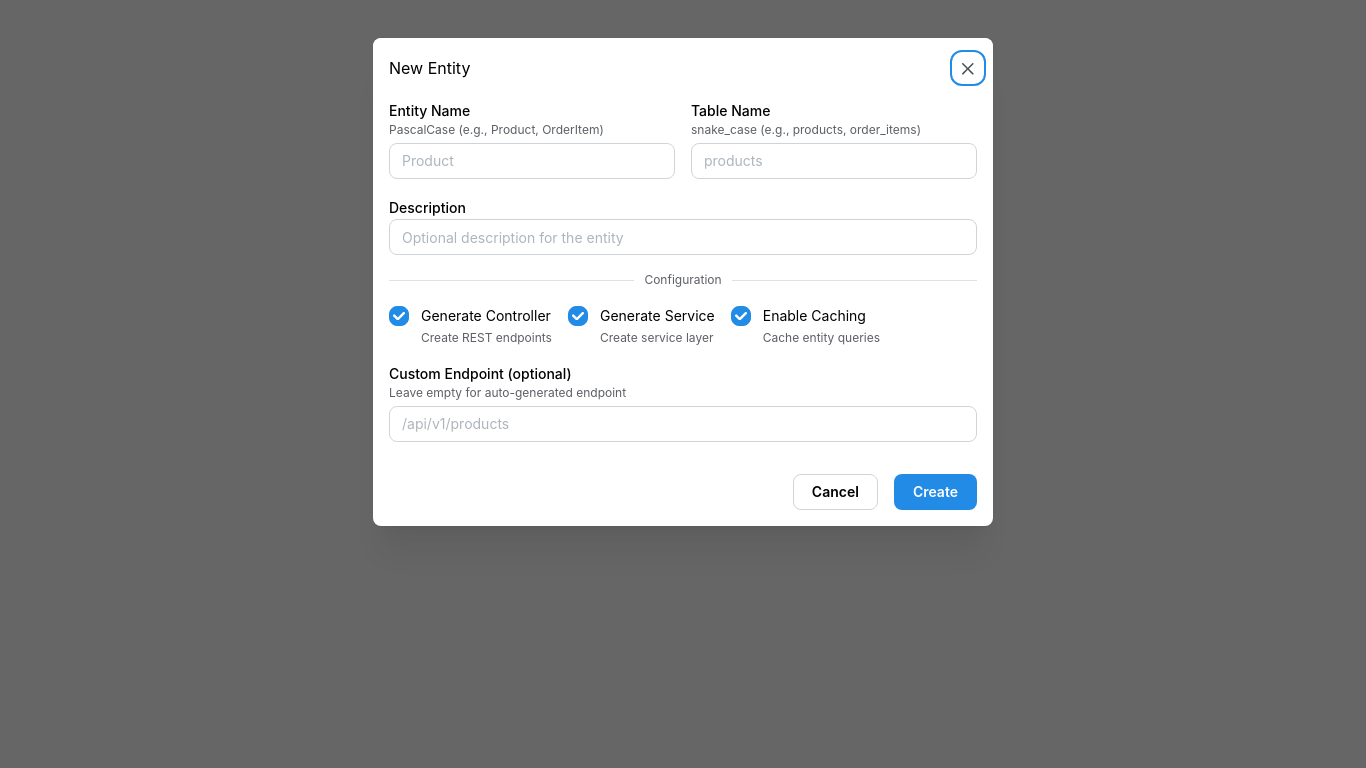
Test: EntityForm › Auto-generate Table Name › should auto-generate table name with snake_case for multi-word names
The image size is (1366, 768).
Type "OrderItem" into the field labelled "Entity Name" at (532, 161), box [389,143,675,179]
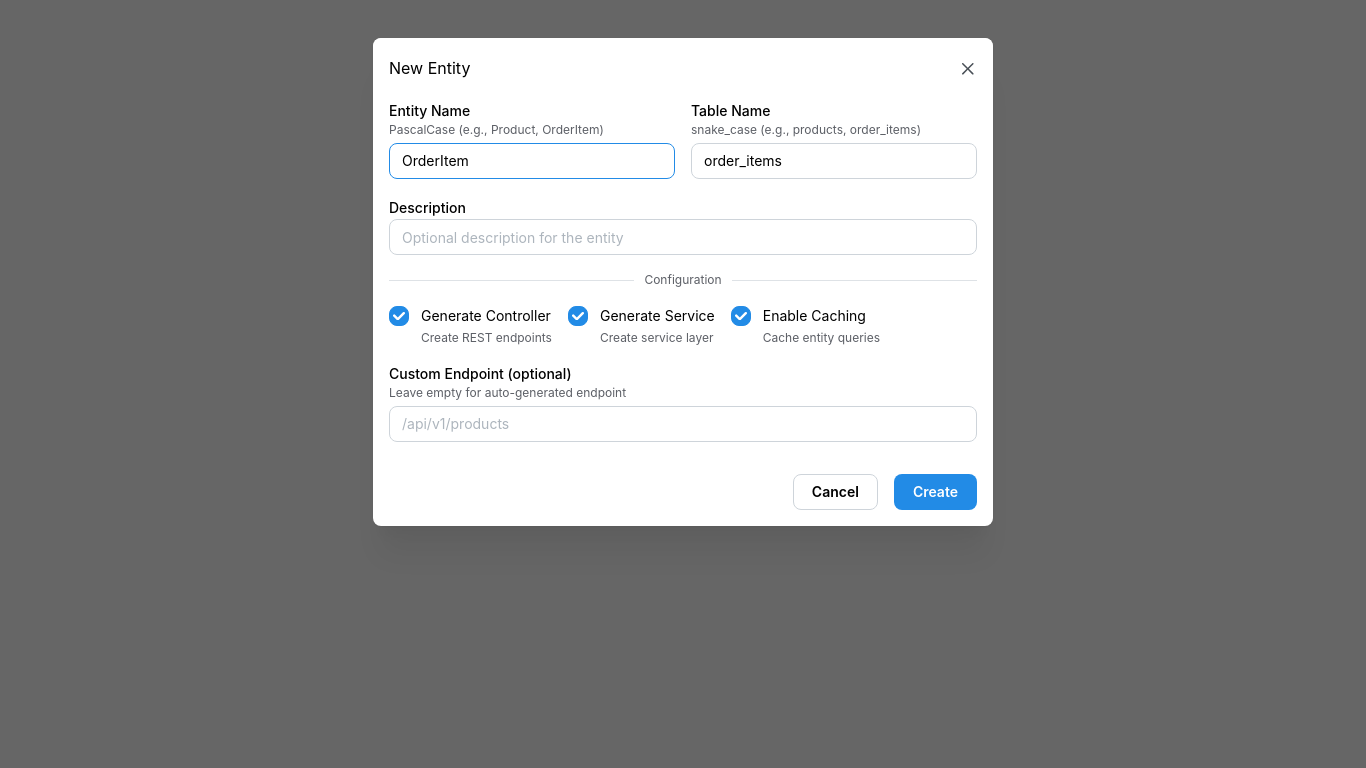
Now the field labelled "Table Name" holds "order_items", box [691,143,977,179]
